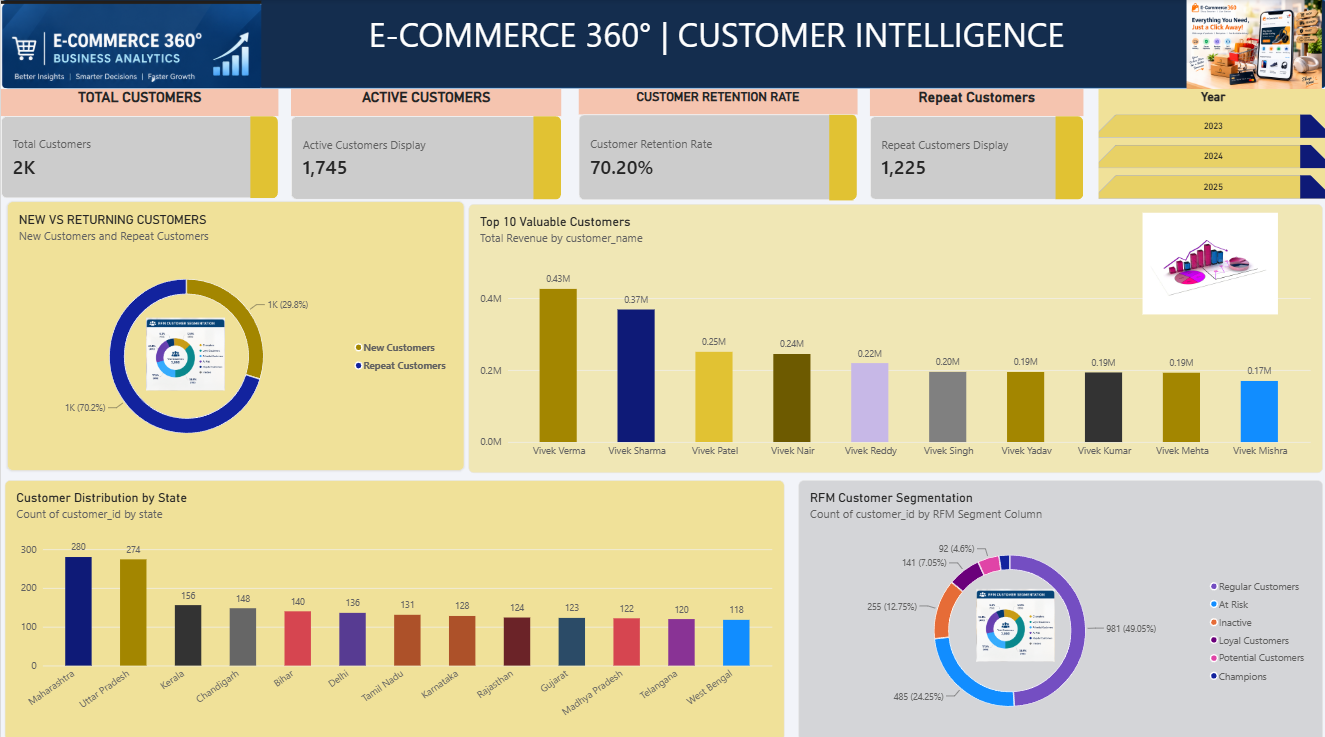

The dashboard page shown, as its layout file describes it:
{"tool":"powerbi","page":{"name":" CUSTOMER INTELLIGENCE","canvas":[1920,1080],"ordinal":1},"visuals":[{"type":"shape","box":[0,0,1920.4,129.6],"z":0},{"type":"textbox","box":[528.7,18.2,1014.9,127.6],"z":1000},{"type":"image","box":[0,0,377.2,130.5],"z":2000},{"type":"cardVisual","title":"TOTAL CUSTOMERS","fields":{"Data":["KIP_Measures.Total Customers"]},"box":[0,130.5,401.6,159],"z":3000},{"type":"cardVisual","title":"ACTIVE CUSTOMERS","fields":{"Data":["KIP_Measures.Active Customers Display"]},"box":[420,130.5,391.4,161.1],"z":4000},{"type":"cardVisual","title":"CUSTOMER RETENTION RATE","fields":{"Data":["KIP_Measures.Customer Retention Rate"]},"box":[835.8,130.5,403.7,161.1],"z":5000},{"type":"cardVisual","title":"Repeat Customers","fields":{"Data":["KIP_Measures.Repeat Customers Display"]},"box":[1257.9,130.5,309.9,161.1],"z":6000},{"type":"image","box":[1708.4,0,212,130.5],"z":9000},{"type":"donutChart","title":"NEW VS RETURNING CUSTOMERS","fields":{"Y":["KIP_Measures.New Customers","KIP_Measures.Repeat Customers"]},"box":[8.2,293.9,661.2,389.8],"z":10000},{"type":"advancedSlicerVisual","fields":{"Values":["Orders.Year"]},"box":[1588.1,130.5,332.3,159],"z":11000},{"type":"clusteredColumnChart","title":"Top 10 Valuable Customers","fields":{"Category":["Customers.customer_name"],"Y":["KIP_Measures.Total Revenue"]},"box":[677.6,295.9,1236.7,389.8],"z":12000},{"type":"clusteredColumnChart","title":"Customer Distribution by State","fields":{"Category":["Customers.state"],"Y":["Count(Customers.customer_id)"]},"box":[6.1,695.9,1128.6,377.6],"z":13000},{"type":"donutChart","title":"RFM Customer Segmentation","fields":{"Category":["Customers.RFM Segment Column"],"Y":["CountNonNull(Customers.customer_id)"]},"box":[1155.1,695.9,759.2,377.6],"z":14000},{"type":"image","box":[209.9,459.7,114,108.6],"z":14001},{"type":"image","box":[1412.2,853.1,114,108.6],"z":14002},{"type":"image","box":[1587.8,310.2,326.5,146.9],"z":14003}]}

Visuals, with their boxes in screenshot pixels (x1, y1, x2, y2), scaled from the page's 1920x1080 canvas onto the 1325x737 screenshot:
shape: BBox(0, 0, 1324, 88)
textbox: BBox(365, 12, 1065, 99)
image: BBox(0, 0, 260, 89)
"TOTAL CUSTOMERS" cardVisual: BBox(0, 89, 277, 198)
"ACTIVE CUSTOMERS" cardVisual: BBox(290, 89, 560, 199)
"CUSTOMER RETENTION RATE" cardVisual: BBox(577, 89, 855, 199)
"Repeat Customers" cardVisual: BBox(868, 89, 1082, 199)
image: BBox(1179, 0, 1324, 89)
"NEW VS RETURNING CUSTOMERS" donutChart: BBox(6, 201, 462, 467)
advancedSlicerVisual - Orders.Year: BBox(1096, 89, 1324, 198)
"Top 10 Valuable Customers" clusteredColumnChart: BBox(468, 202, 1321, 468)
"Customer Distribution by State" clusteredColumnChart: BBox(4, 475, 783, 733)
"RFM Customer Segmentation" donutChart: BBox(797, 475, 1321, 733)
image: BBox(145, 314, 224, 388)
image: BBox(975, 582, 1053, 656)
image: BBox(1096, 212, 1321, 312)
